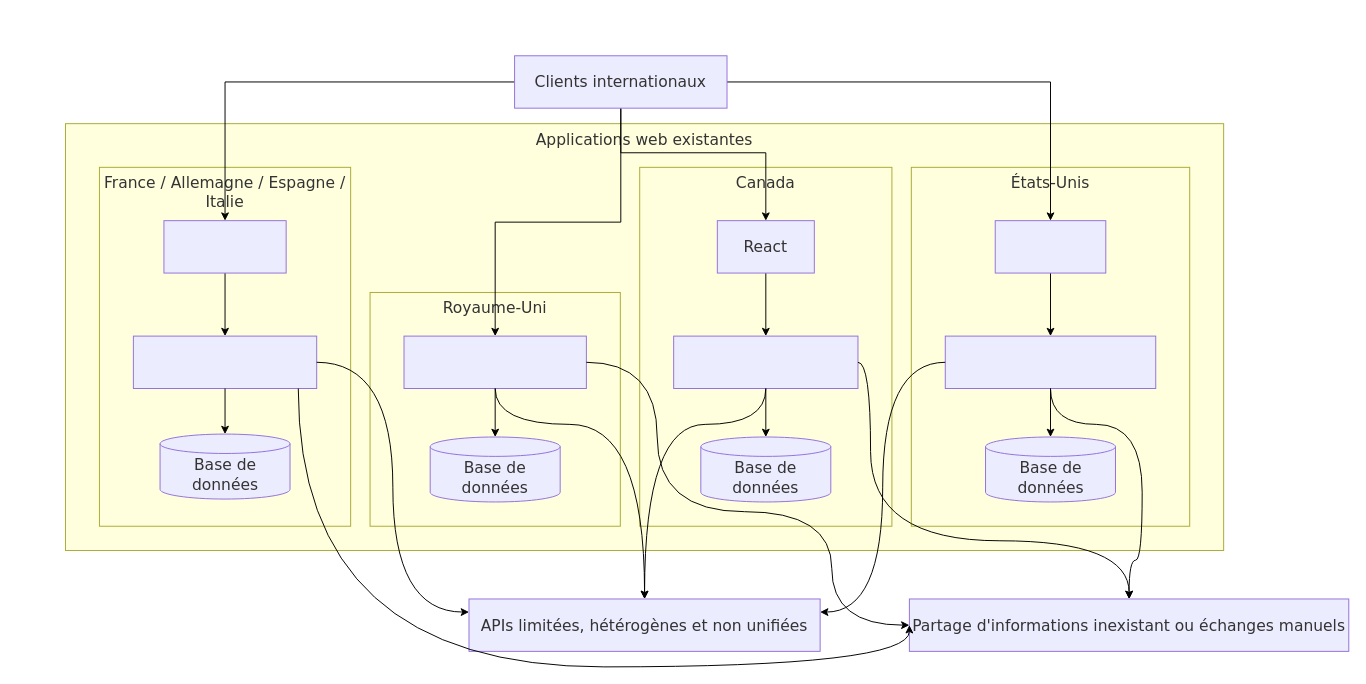
The diagram is 1366 pixels wide and 684 high, and some of its shapes have lost their labels. The centre of each missing label's shape, as x and y in pixels:
"Angular" belongs at point 1050,246.
"JSP / JSF" belongs at point 224,246.
"Monolithe Java EE" belongs at point 224,361.
"Monolithe Laravel" belongs at point 494,361.
"Monolithe Node.js" belongs at point 765,361.
"Monolithe Spring Boot" belongs at point 1050,361.
